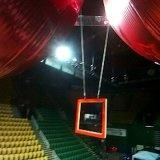Orange_Square_GShape: (76, 98, 106, 137)
